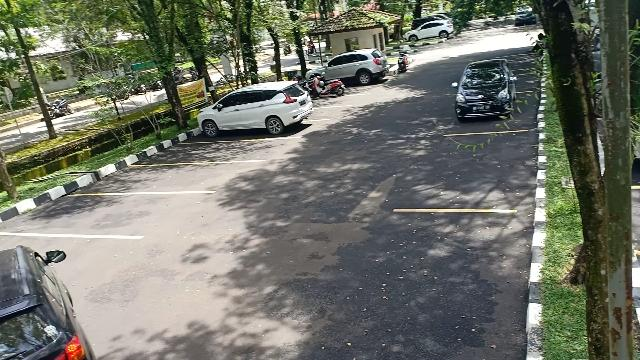empty: (424, 132, 534, 212), (25, 194, 175, 238), (97, 162, 235, 194), (155, 140, 275, 164)
occupied: (197, 96, 315, 144), (446, 82, 528, 134)
